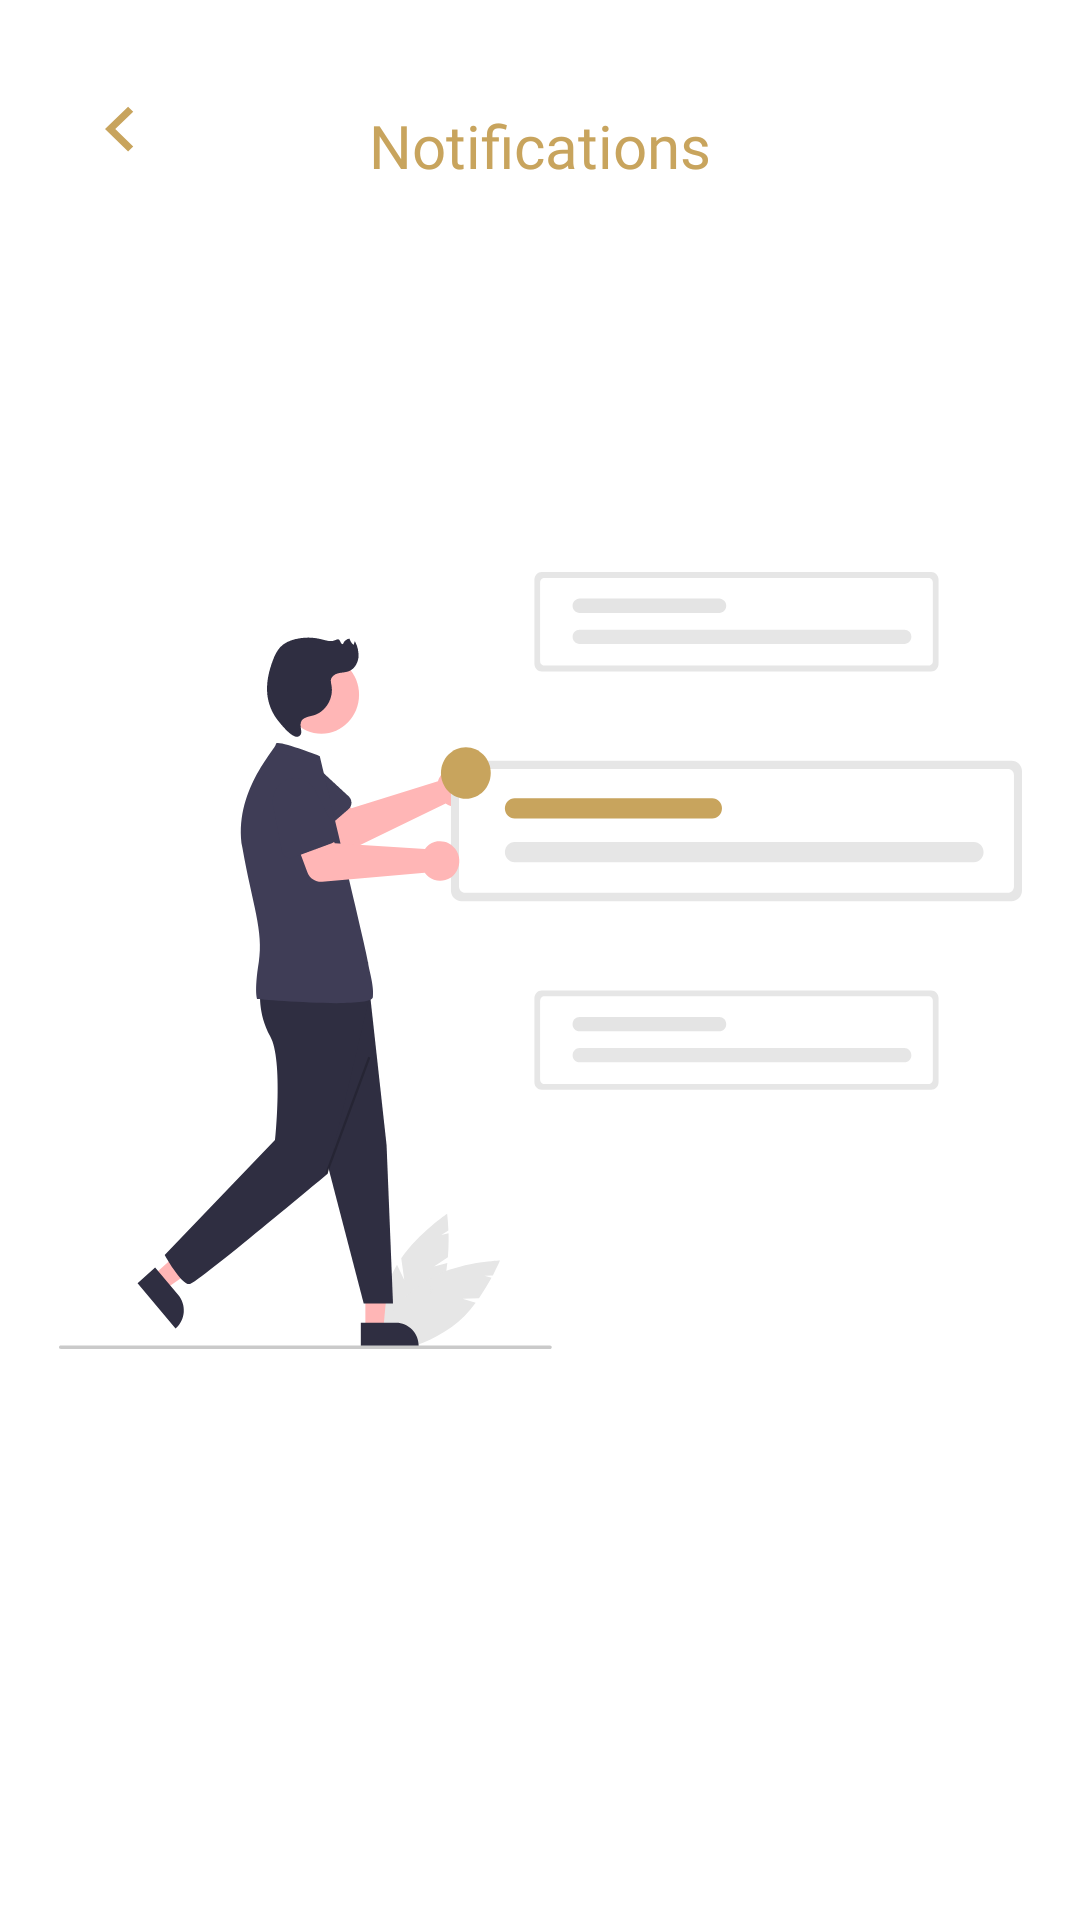

Locate icon controls on the screen. Image size 1080px×1920px, boxes as Rect(x1, y1, x2, y2).
back: Rect(105, 107, 133, 152)
